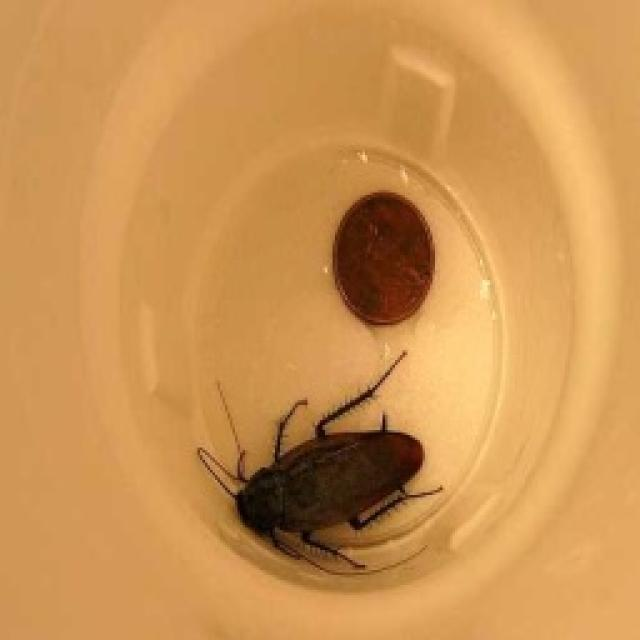cockroach: (193, 346, 446, 579)
